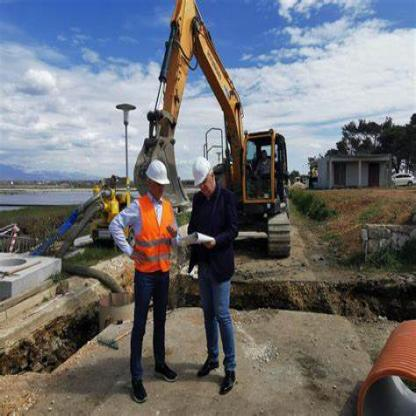person: (99, 150, 180, 404), (178, 136, 256, 396)
